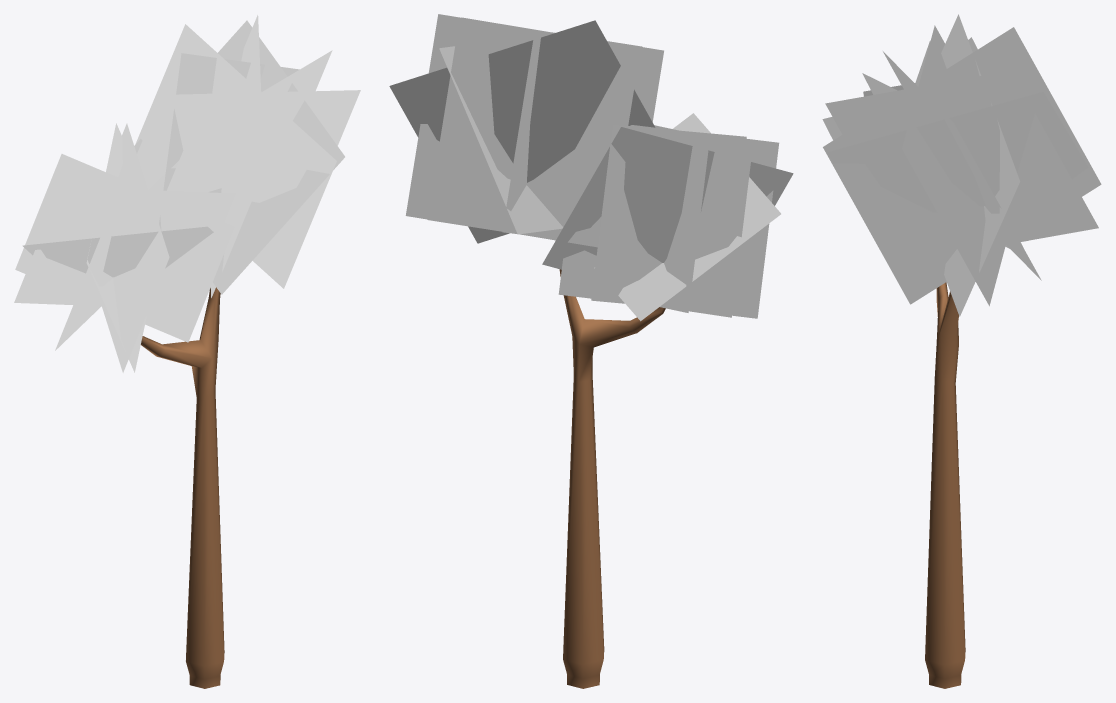
Rendered from Tree_3.fbx.
The picture shows the model from 3 angles, left to right: view 1: azimuth 30°, elevation 25°; view 2: azimuth 150°, elevation 25°; view 3: azimuth 270°, elevation 25°; orthographic projection. The views are drawn at different scales.
Visible parts, largest first — view 1: Tree3; view 2: Tree3; view 3: Tree3.
Boxes of the visible parts, x1,y1,x2,y2 form: Tree3: (14,15,360,688); Tree3: (389,14,793,688); Tree3: (822,14,1101,688).
Bounding box in the file's own units: 5.8 × 10.58 × 4.05.
